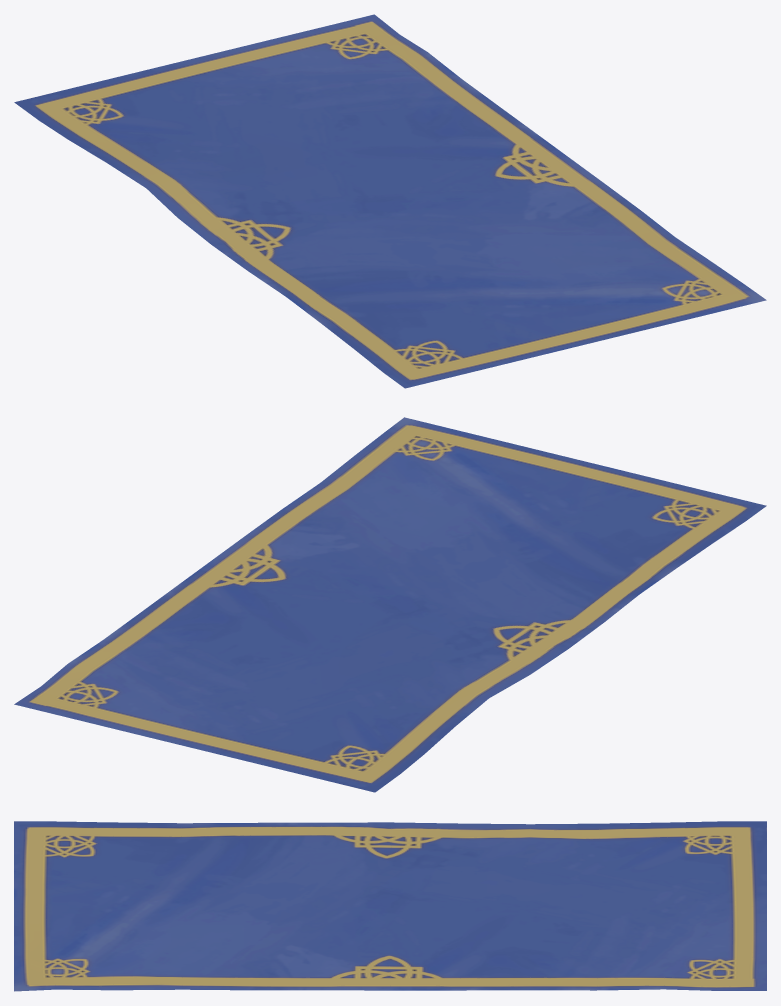
Rendered from SM_RugC.fbx.
The picture shows the model from 3 angles, top to bottom: view 1: azimuth 30°, elevation 25°; view 2: azimuth 150°, elevation 25°; view 3: azimuth 270°, elevation 25°; orthographic projection. The views are drawn at different scales.
Visible parts, largest first — view 1: SM_RugC_LOD0; view 2: SM_RugC_LOD0; view 3: SM_RugC_LOD0.
Boxes of the visible parts, <box> form: SM_RugC_LOD0: <box>14,14,766,388</box>; SM_RugC_LOD0: <box>14,417,766,792</box>; SM_RugC_LOD0: <box>14,821,766,991</box>.
Size of what is drawn, in the model's own units: 2.58 by 0.0214 by 4.84.
